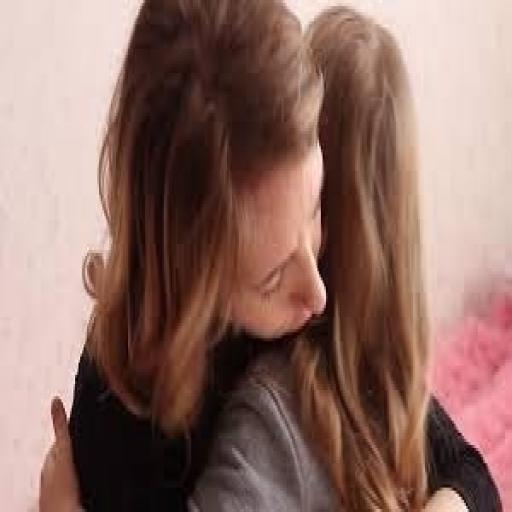hugging: (36, 0, 503, 509)
